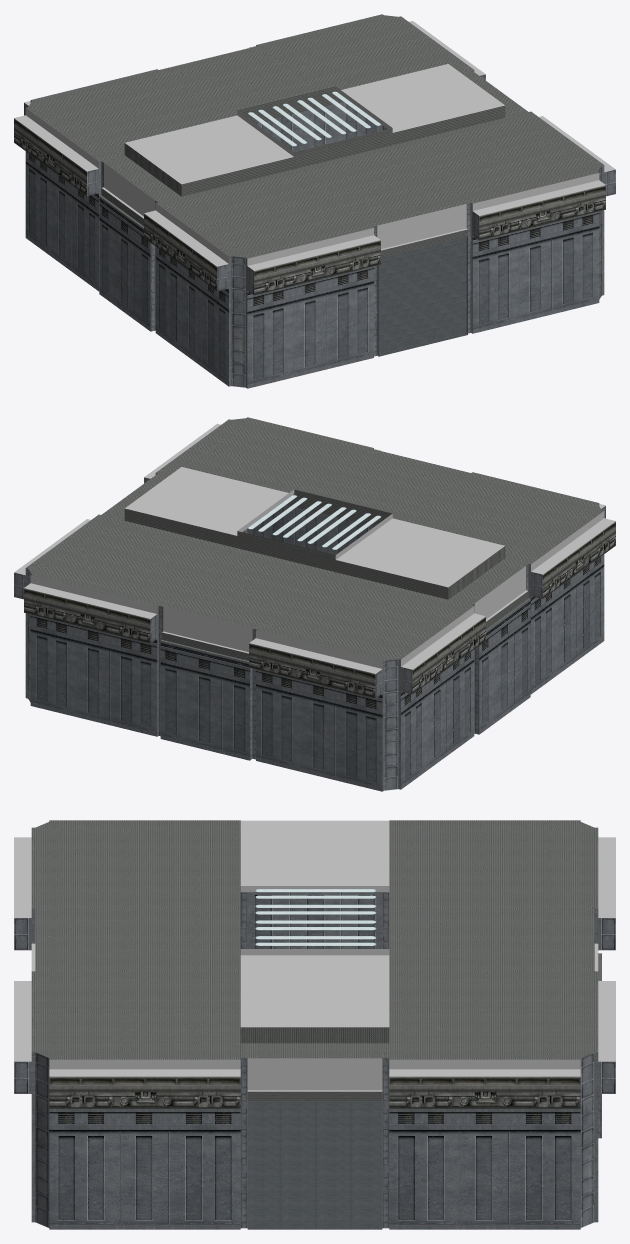
The model's file is poi_all_impl_bunker_research_facility_s01_r21_storage2_mesh.fbx.
3 renders of one model, top to bottom at view 1: azimuth 30°, elevation 25°; view 2: azimuth 150°, elevation 25°; view 3: azimuth 270°, elevation 25°, orthographic. The views are drawn at different scales.
Visible parts, largest first — view 1: mesh_node; view 2: mesh_node; view 3: mesh_node.
Boxes of the visible parts, x1,y1,x2,y2 form: mesh_node: (14,14,615,388); mesh_node: (14,417,615,791); mesh_node: (14,820,615,1229).
Size of the model in its own units: 17 by 6 by 17.
